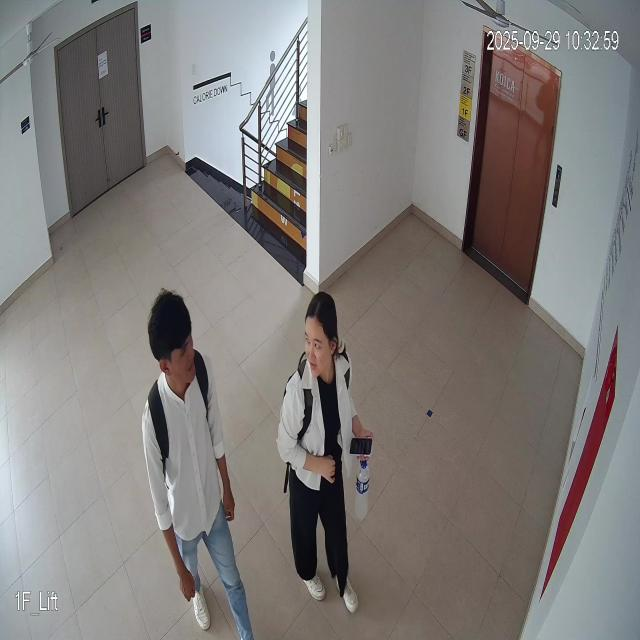face: (149, 285, 199, 391), (298, 285, 341, 381)
